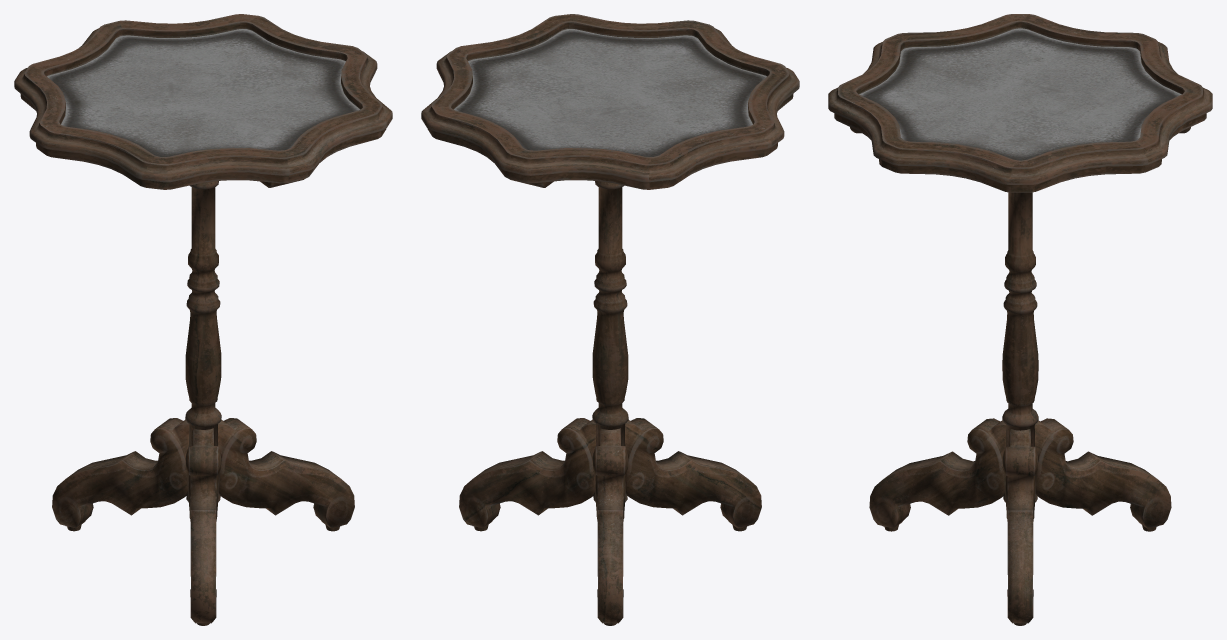
Rendered from SideTable.fbx.
The picture shows the model from 3 angles, left to right: view 1: azimuth 30°, elevation 25°; view 2: azimuth 150°, elevation 25°; view 3: azimuth 270°, elevation 25°; orthographic projection.
Visible parts, largest first — view 1: SM_SideTable_LOD0; view 2: SM_SideTable_LOD0; view 3: SM_SideTable_LOD0.
Boxes of the visible parts, bbox=[...] form: SM_SideTable_LOD0: bbox=[14, 14, 392, 625]; SM_SideTable_LOD0: bbox=[421, 14, 799, 625]; SM_SideTable_LOD0: bbox=[828, 14, 1212, 625].
Bounding box in the file's own units: 57.27 × 77.1 × 57.27.
